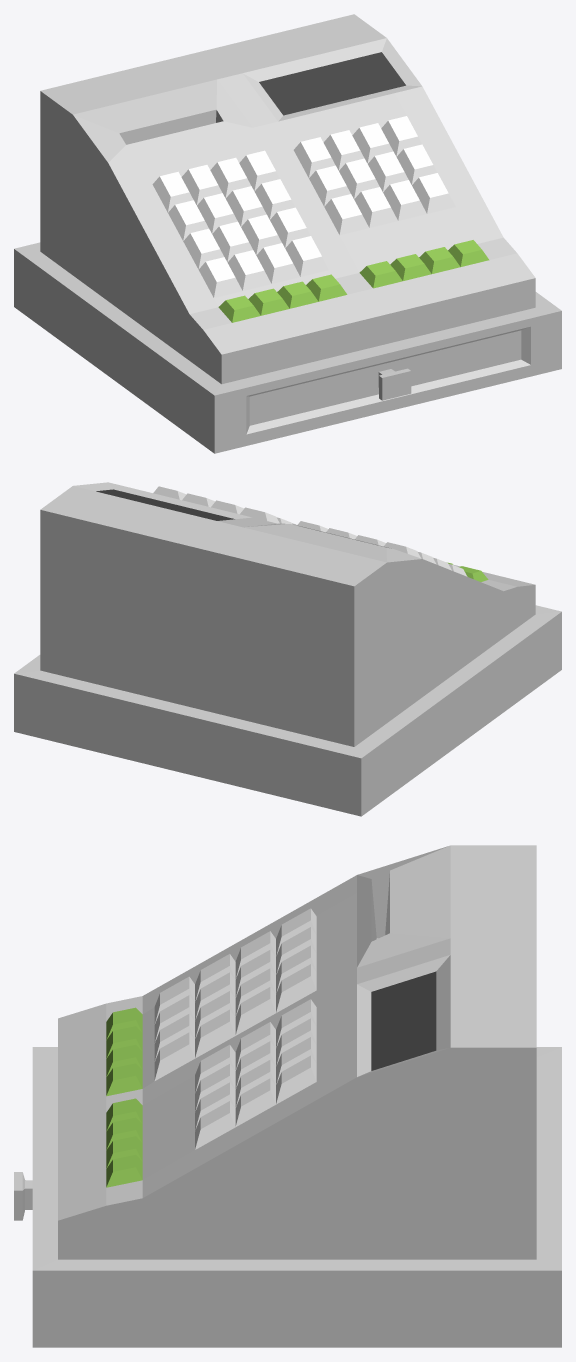
File: Cashbox.fbx
3 views of the same model, one above another, from view 1: azimuth 30°, elevation 25°; view 2: azimuth 150°, elevation 25°; view 3: azimuth 270°, elevation 25° (orthographic). The views are drawn at different scales.
Visible parts, largest first — view 1: Cashbox; view 2: Cashbox; view 3: Cashbox.
Part boxes in pixels (x1,y1,x2,y2): Cashbox: (14, 14, 561, 453); Cashbox: (14, 482, 561, 816); Cashbox: (14, 845, 561, 1347).
Bounding box in the file's own units: 0.3152 × 0.3263 × 0.19.
